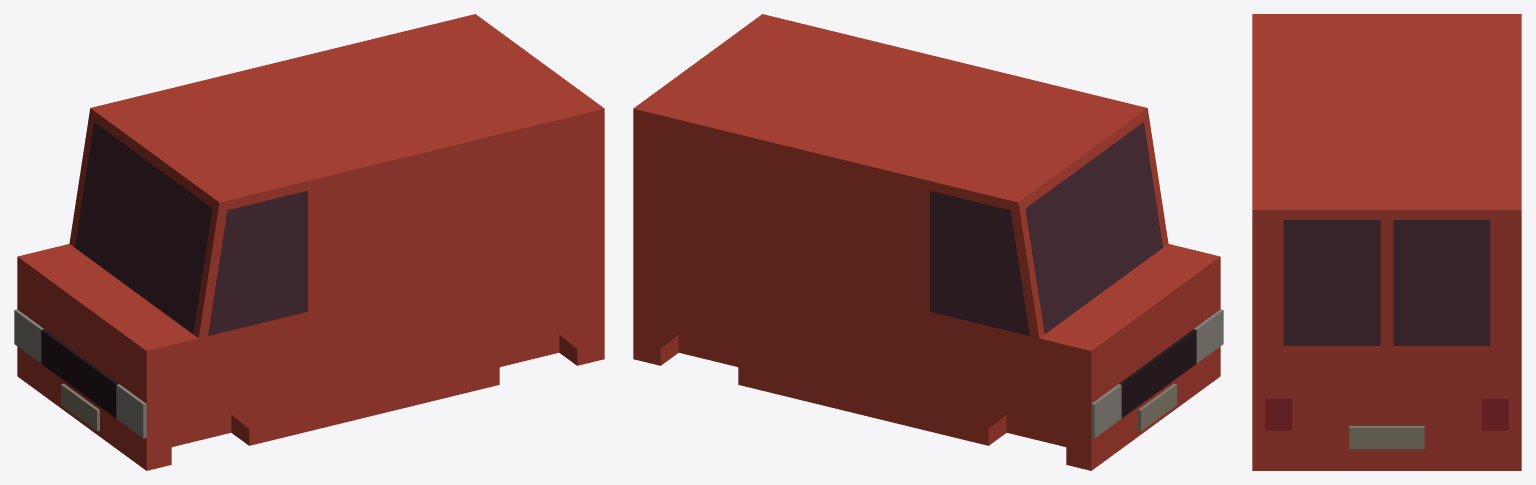
Rendered from Van_Red.fbx.
3 renders of one model, left to right at view 1: azimuth 30°, elevation 25°; view 2: azimuth 150°, elevation 25°; view 3: azimuth 270°, elevation 25°, orthographic. The views are drawn at different scales.
Parts seen in each view (by area): view 1: Van_Red, Van_Lights; view 2: Van_Red, Van_Lights; view 3: Van_Red, Van_Lights.
Part boxes in pixels (<box>): Van_Red: <box>17,14,604,470</box>; Van_Lights: <box>14,309,146,438</box>; Van_Red: <box>633,14,1220,470</box>; Van_Lights: <box>1091,309,1223,438</box>; Van_Red: <box>1252,14,1521,470</box>; Van_Lights: <box>1265,397,1508,430</box>.
Bounding box in the file's own units: 4.46 × 2.3 × 2.15.
